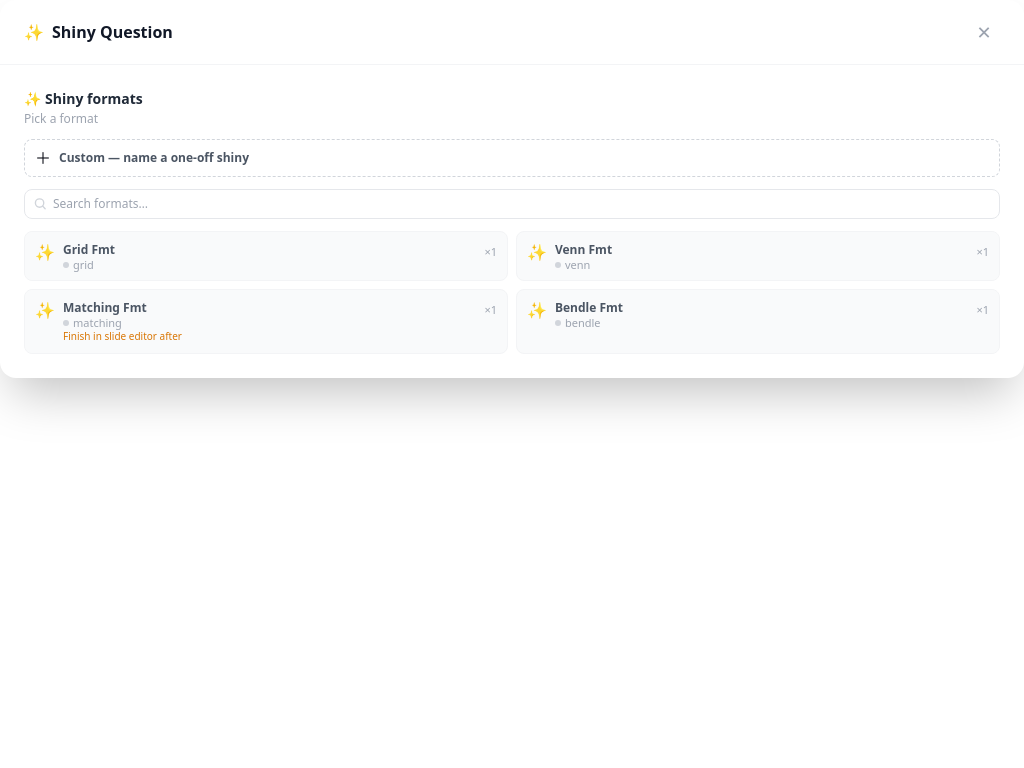
AddSlideWizard shiny details — bendle song gate › disables create with no song picked, and enables it once one is
The image size is (1024, 768).
Click the button "✨ Bendle Fmt bendle ×1" at (589, 308), box [516,289,1000,354]
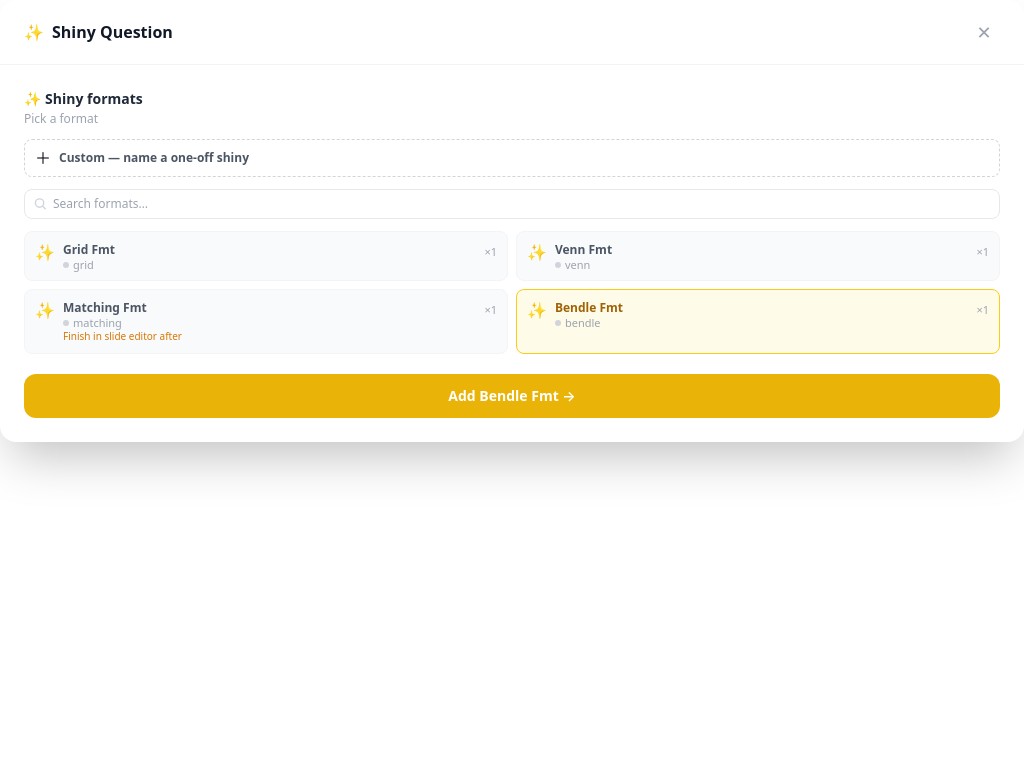
Click the button "Add Bendle Fmt →" at (512, 396), box [24,374,1000,418]
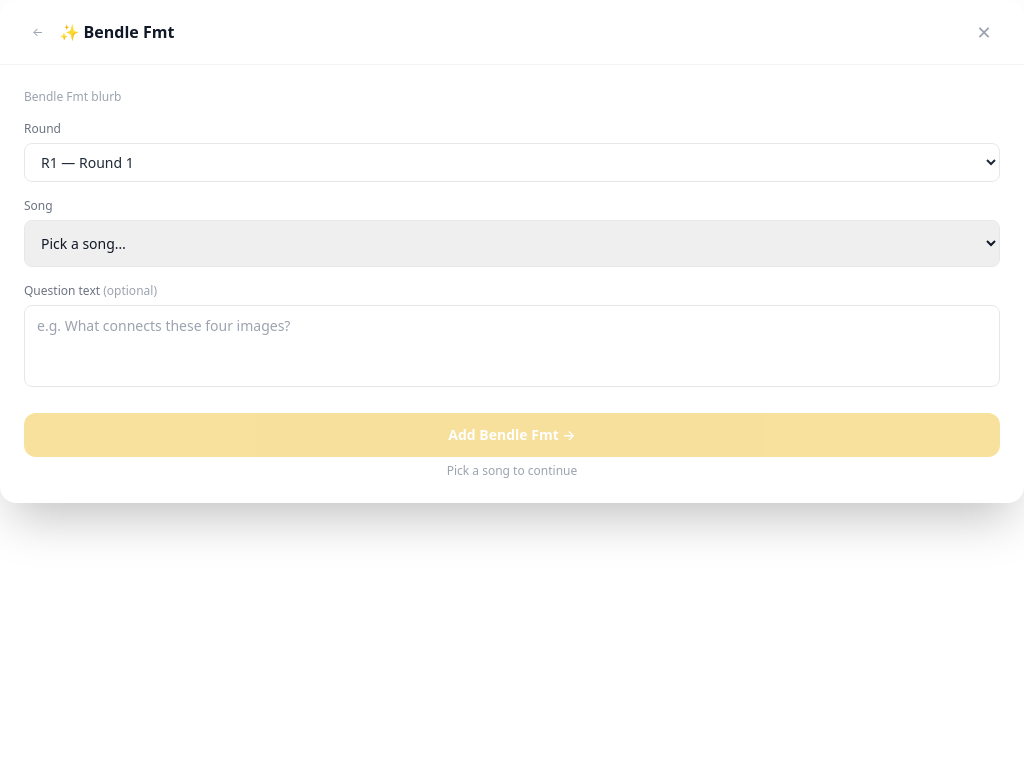
Result: the button "Add Bendle Fmt →" is disabled at [24,413,1000,457]
Result: the text "Pick a song to continue" is shown at [447,462,577,479]
Select "Test Song" in the 2nd dropdown at (512, 244), box [24,220,1000,267]
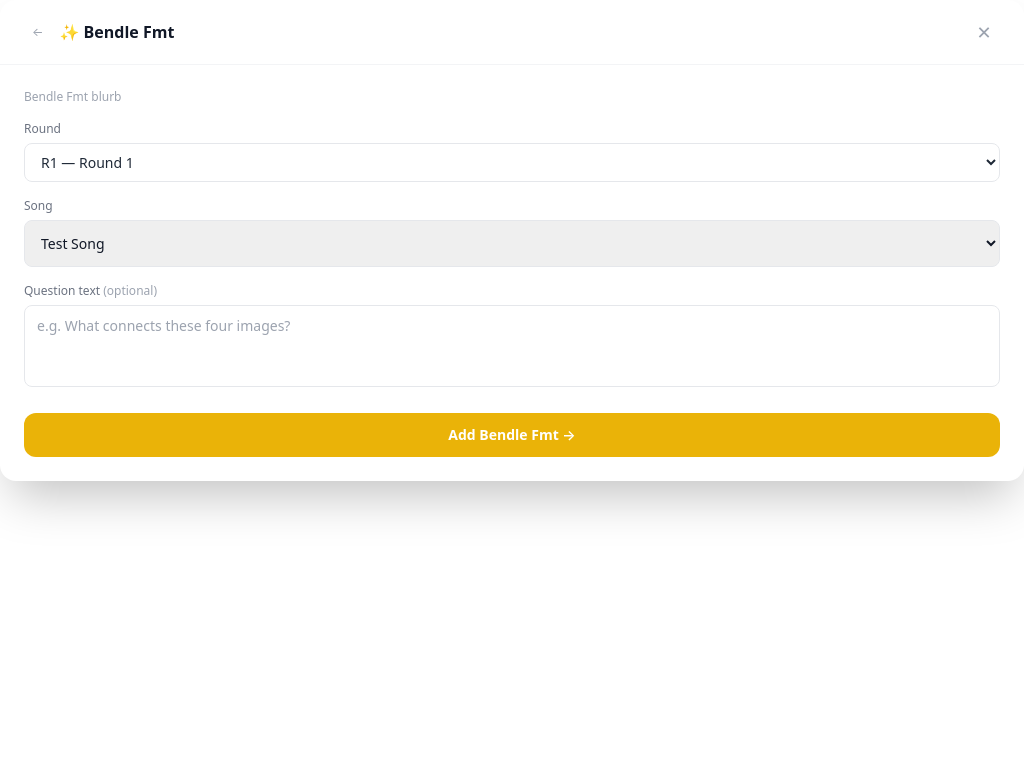
Result: the button "Add Bendle Fmt →" is enabled at [24,413,1000,457]
